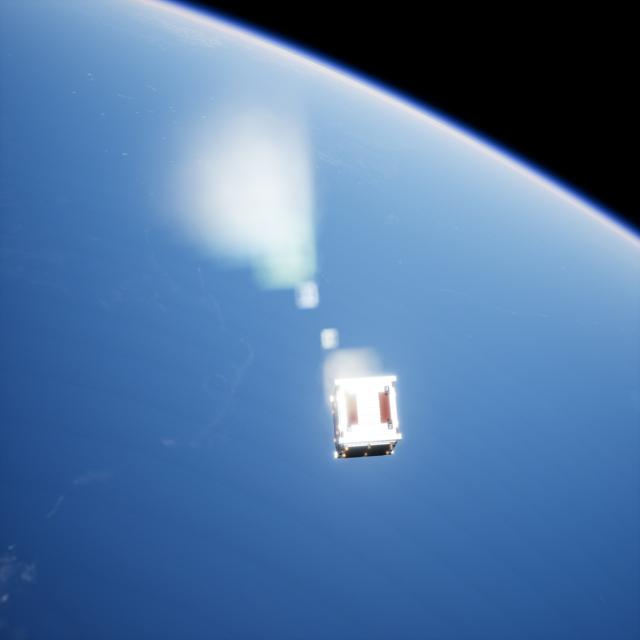satellite: (327, 369, 401, 459)
